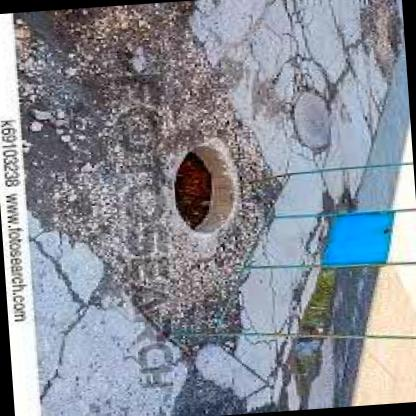manholes: (148, 125, 267, 241)
